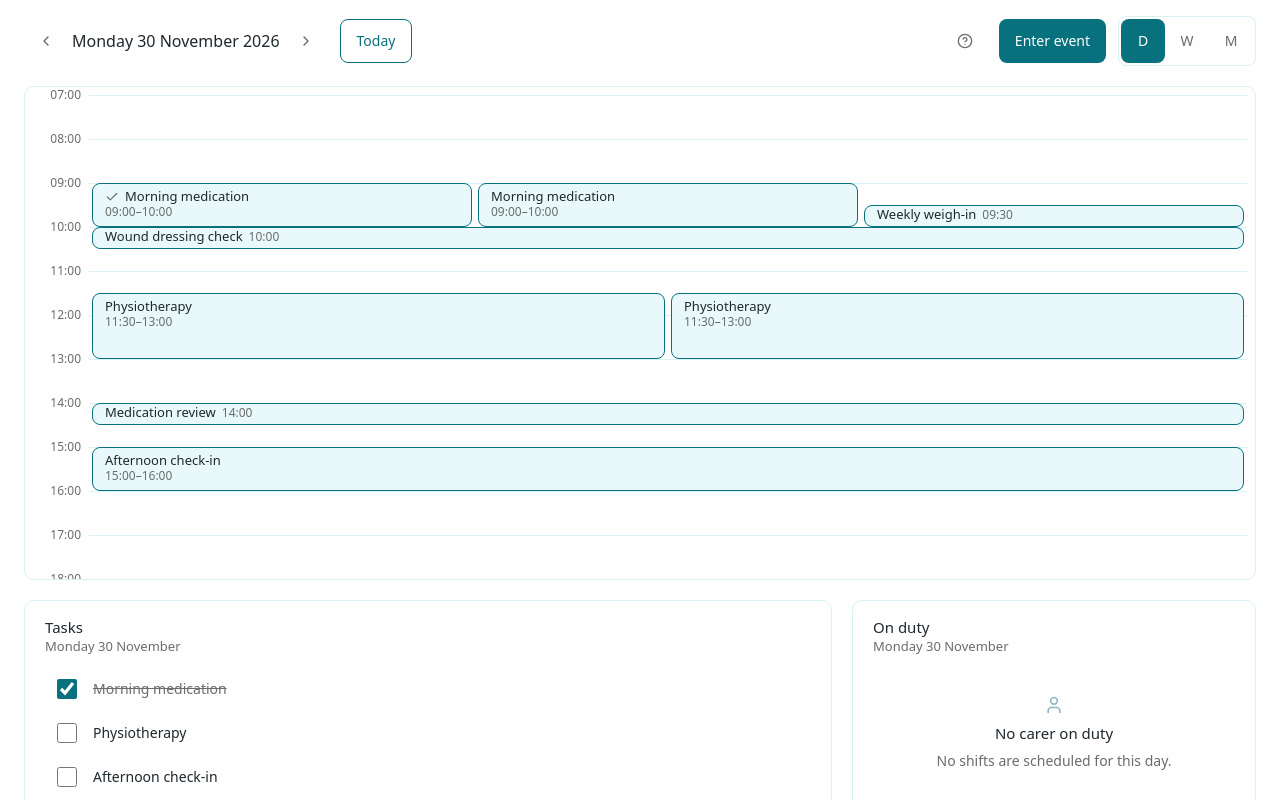
Scenario: [FAM-UI-02][AC-08] a tick shows on the grids, with who ticked it (CHG-016) › [FAM-UI-02][AC-08] unticking restores the original status; a task that was Done shows Planned, without its old name
(page scrolled)
Click the checkbox labelled "Physiotherapy" at coordinates (67, 733), box [57,723,77,743]
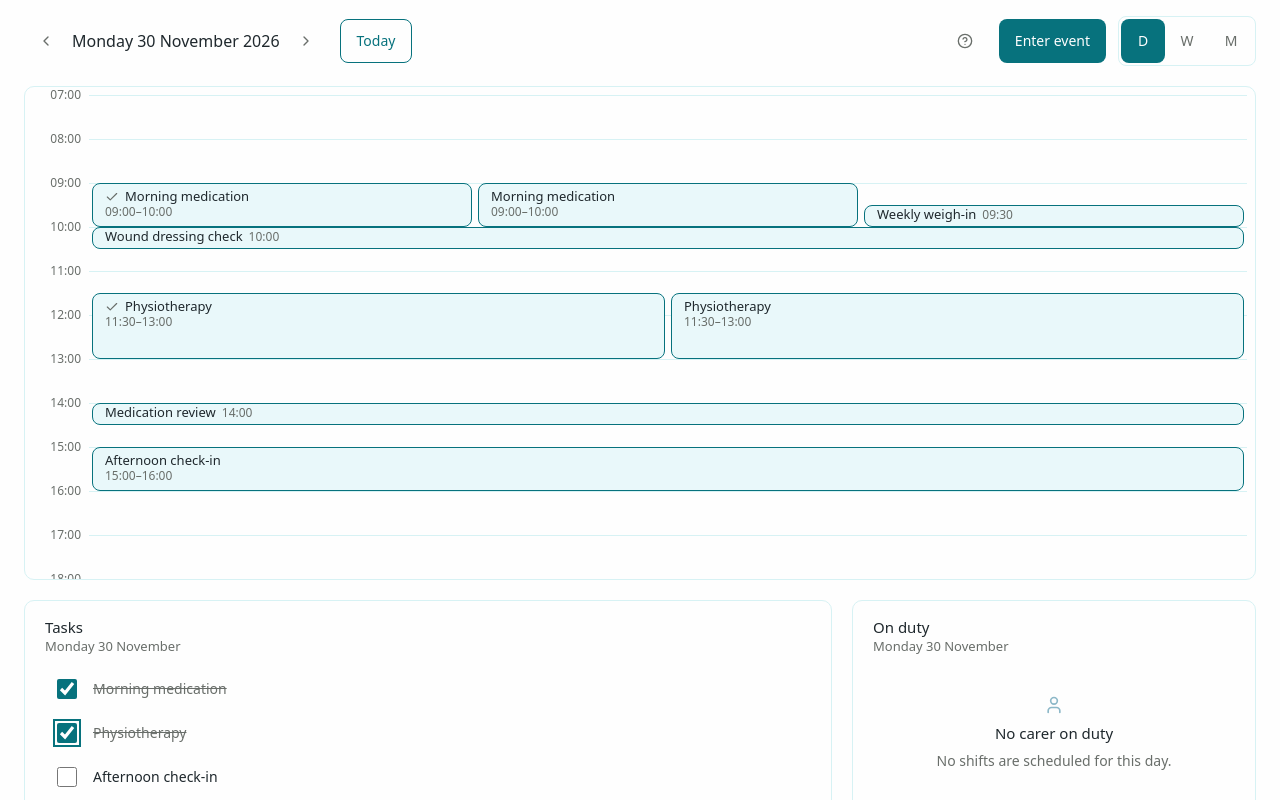
Click the checkbox labelled "Physiotherapy" at coordinates (67, 733), box [57,723,77,743]
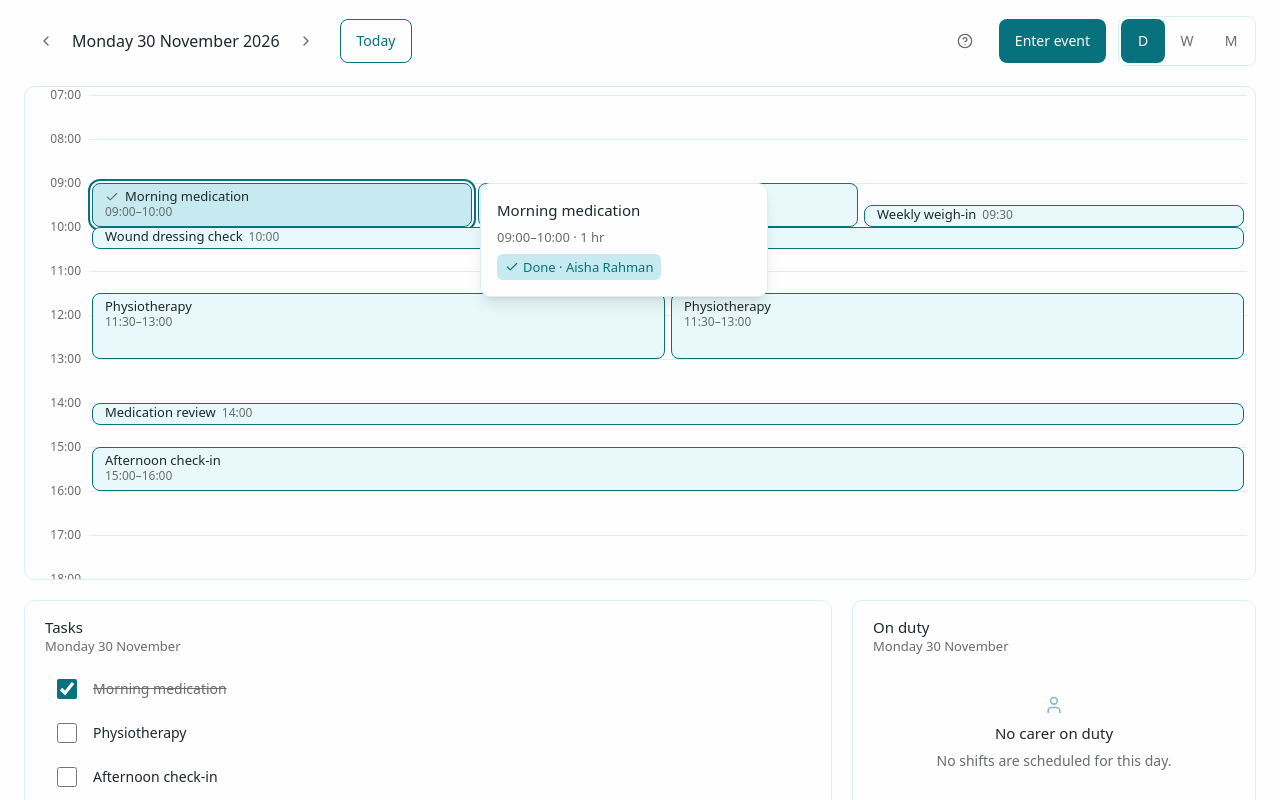
Expected: the tooltip shows "Done · Aisha Rahman", [480,183,768,297]
Click the checkbox labelled "Morning medication" at coordinates (67, 689), box [57,679,77,699]
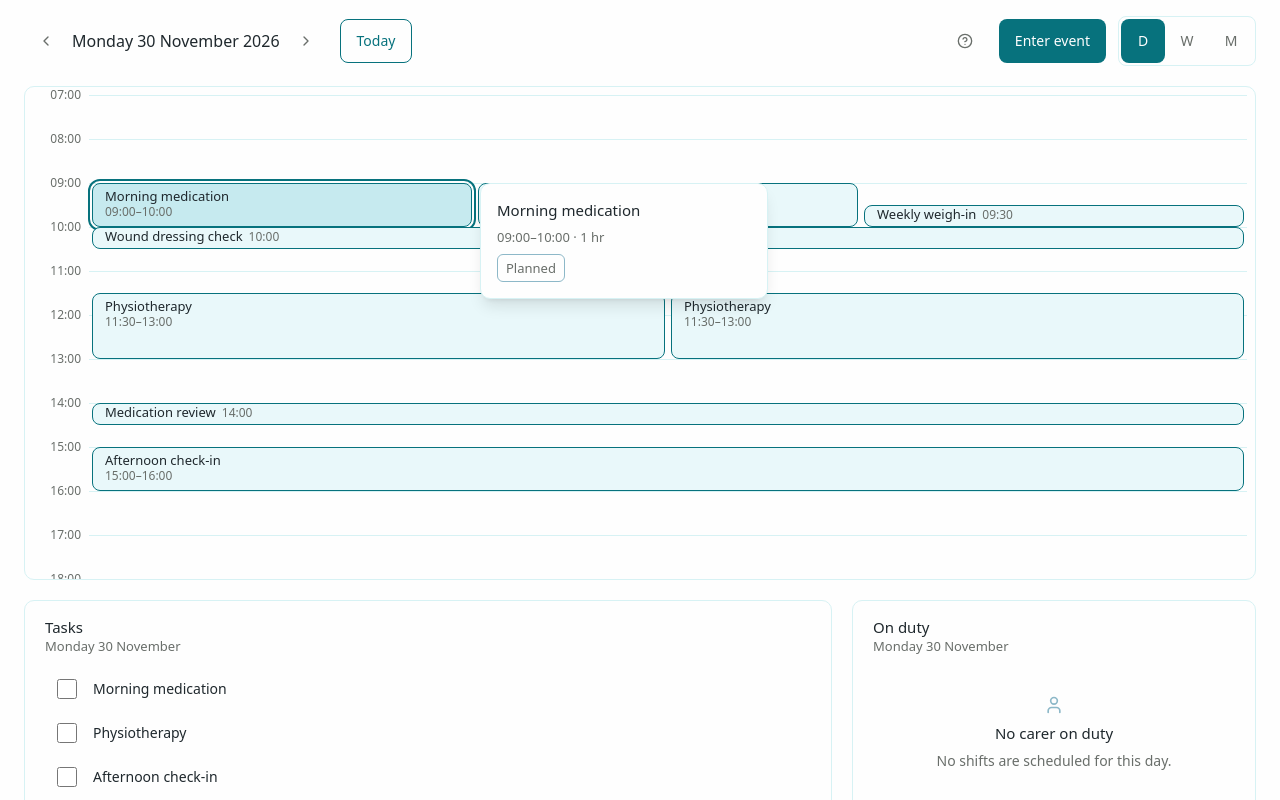
Expected: the tooltip shows "Planned", [506,259,556,277]
